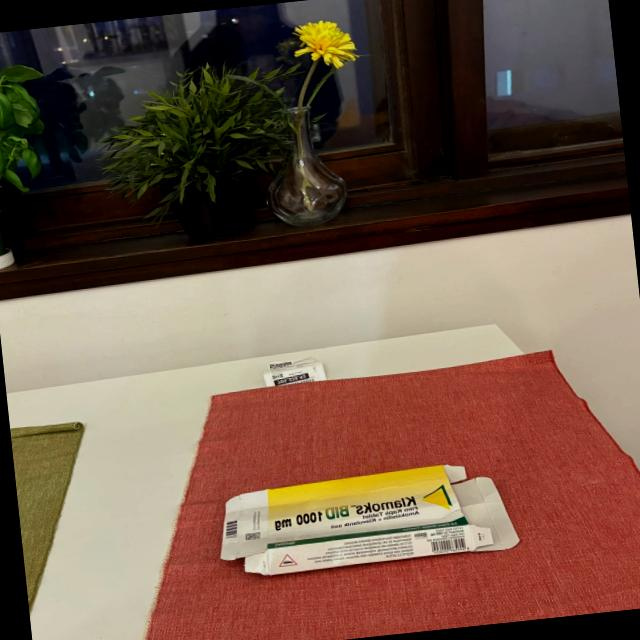damaged_package: (210, 455, 520, 580)
